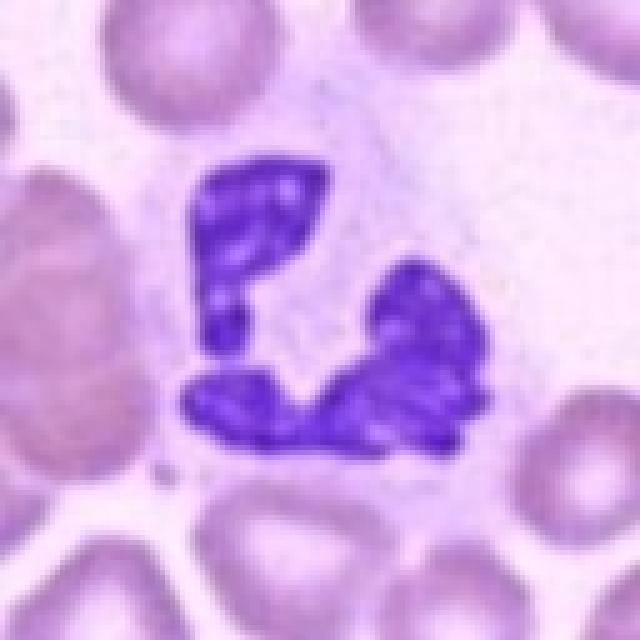neutro: (108, 151, 546, 522)
